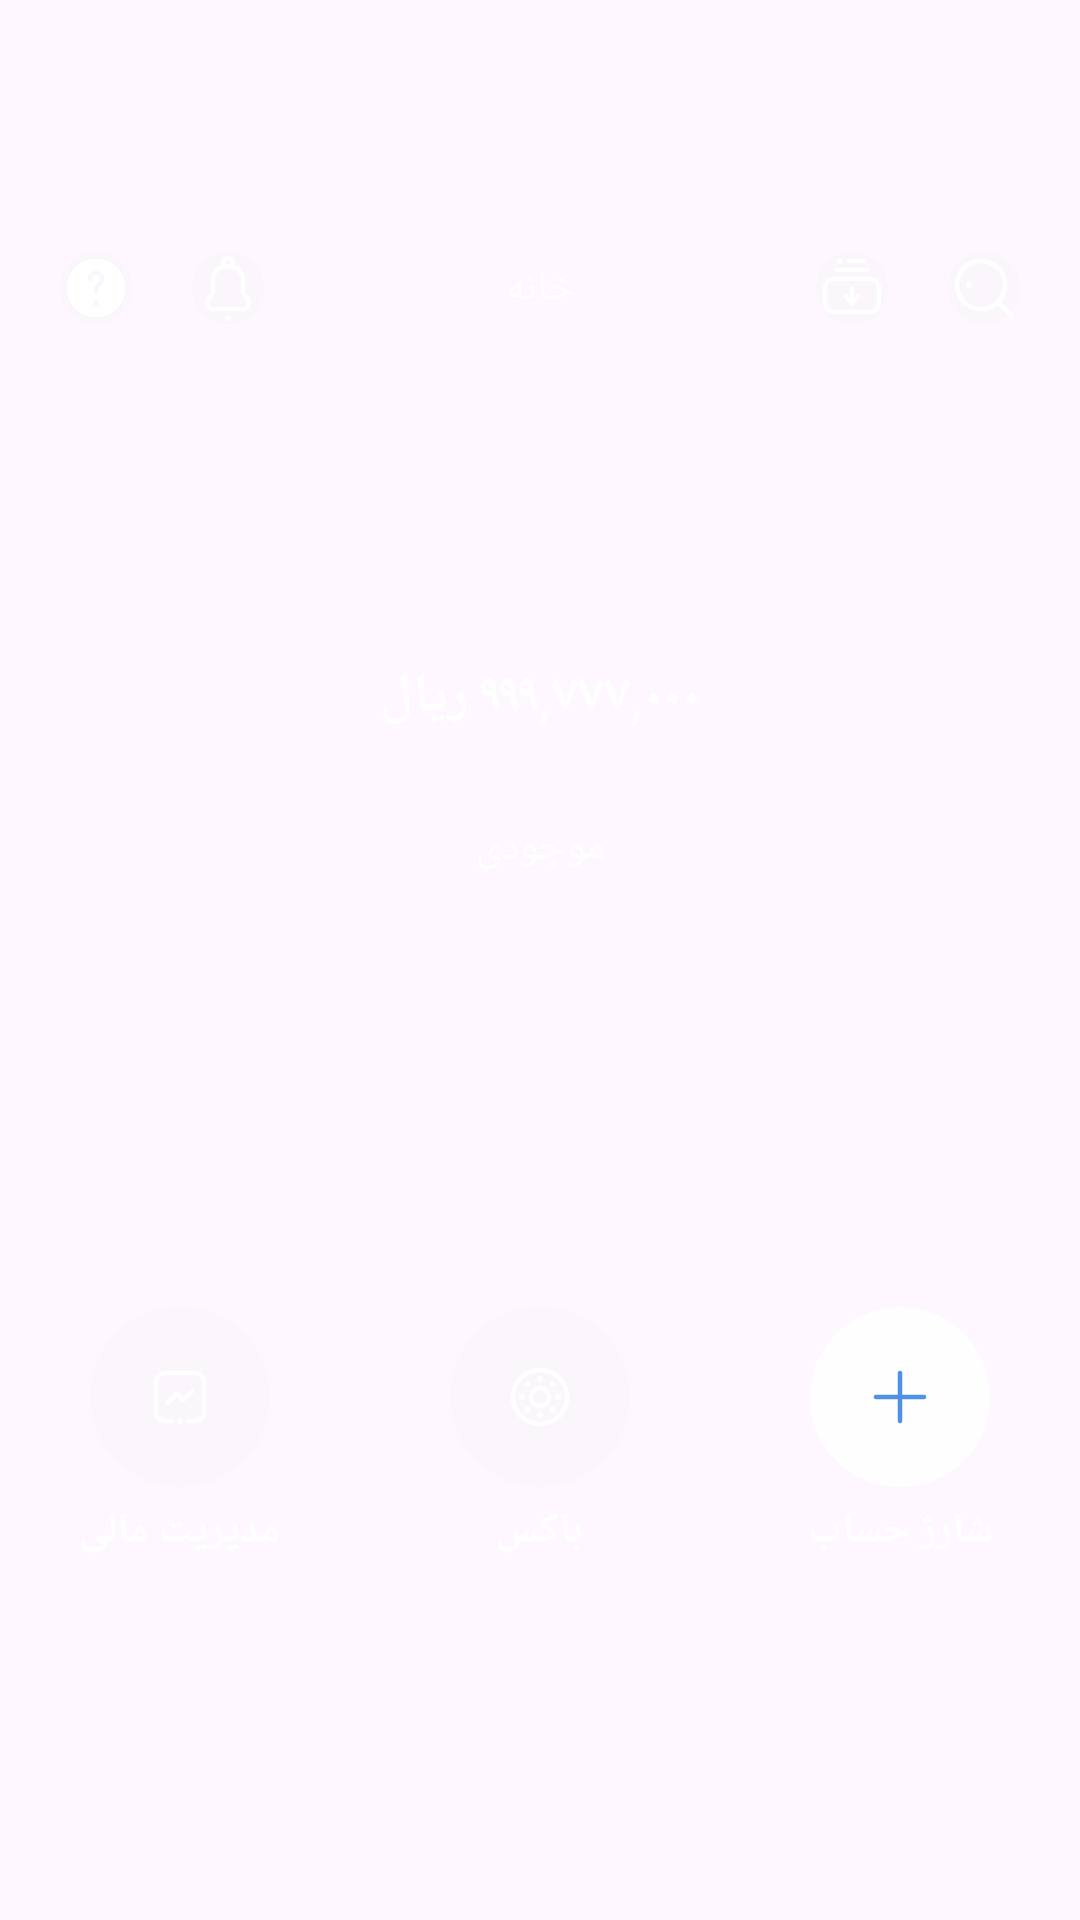

Screen size 1080×1920. Icon name, then its center in pixels as point (x, y):
add: point (899, 1397)
